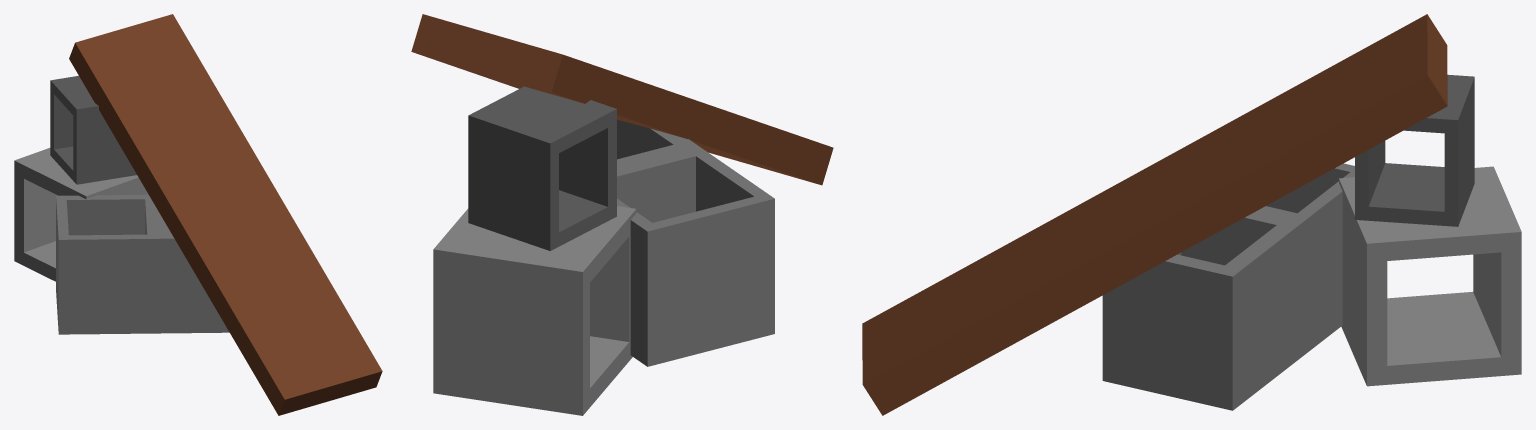
The model's file is Debri.fbx.
The picture shows the model from 3 angles, left to right: view 1: azimuth 30°, elevation 25°; view 2: azimuth 150°, elevation 25°; view 3: azimuth 270°, elevation 25°; orthographic projection. The views are drawn at different scales.
Visible parts, largest first — view 1: Cube, Cube.002, Cube.001, Cube.003; view 2: Cube.001, Cube.002, Cube.003, Cube; view 3: Cube, Cube.002, Cube.001, Cube.003.
Part boxes in pixels (x1,y1,x2,y2): Cube: [69, 14, 382, 415]; Cube.002: [56, 194, 229, 334]; Cube.001: [14, 148, 148, 281]; Cube.003: [50, 75, 136, 184]; Cube.001: [433, 206, 636, 415]; Cube.002: [617, 119, 774, 366]; Cube.003: [468, 86, 616, 250]; Cube: [411, 14, 833, 185]; Cube: [862, 14, 1447, 415]; Cube.002: [1102, 163, 1354, 410]; Cube.001: [1339, 166, 1521, 386]; Cube.003: [1355, 74, 1474, 226].
Bounding box in the file's own units: 322 × 372 × 654.
